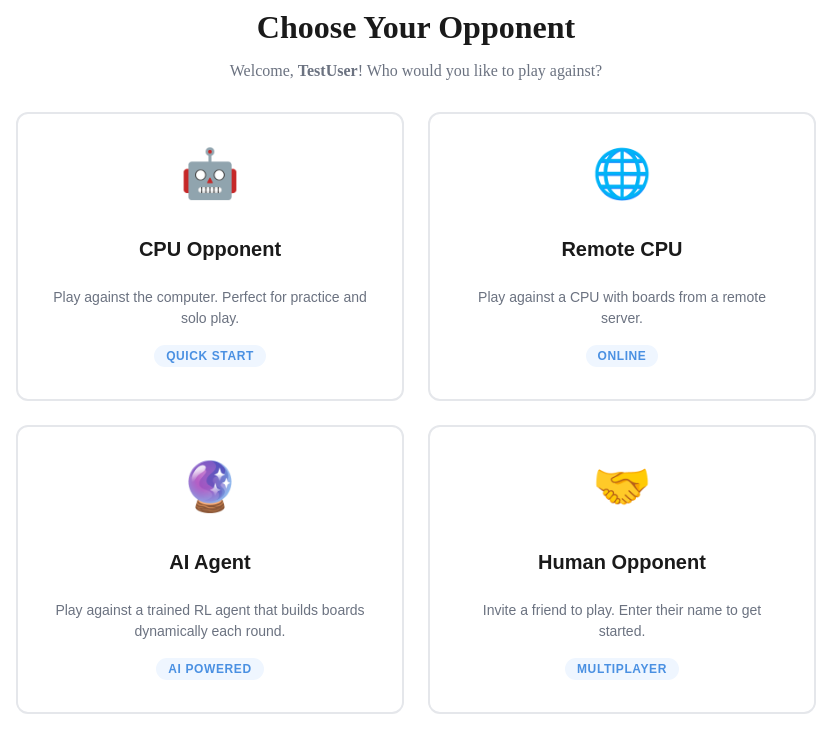
it: OpponentManager › Human opponent selection flow › should hide opponent selection cards after human clicked
Click the button with aria-label "Play against human opponent": (622,569) [428,424,816,714]
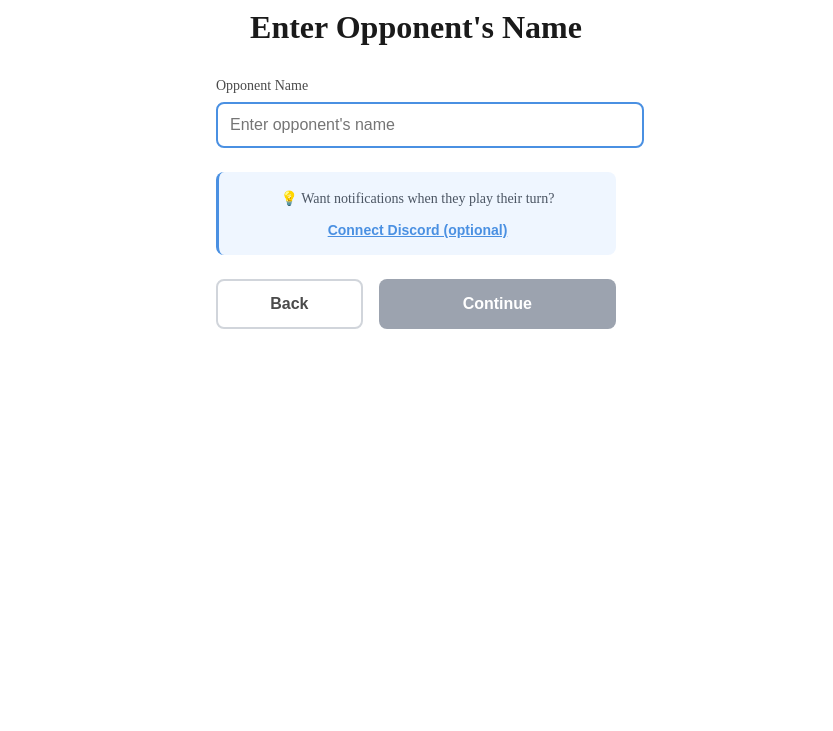
Check: the heading "Choose Your Opponent" is gone
Check: the button "CPU Opponent" is gone
